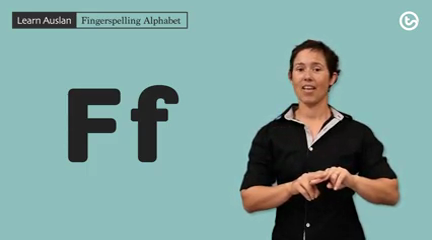F: (292, 164, 356, 205)
